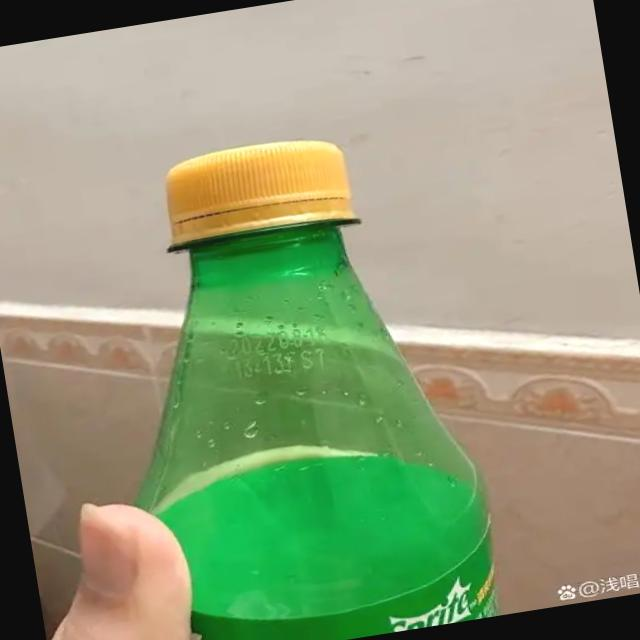bottle: (66, 113, 510, 640)
